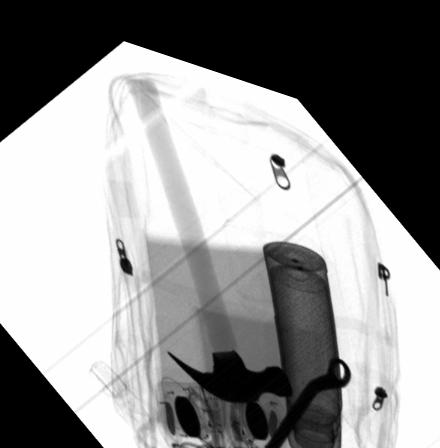Hammer: (124, 69, 292, 388)
Wrench: (246, 335, 352, 448)
